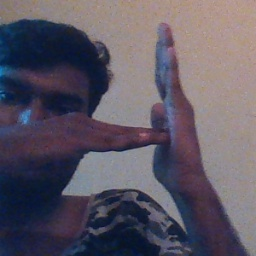Z: (88, 17, 205, 191)
